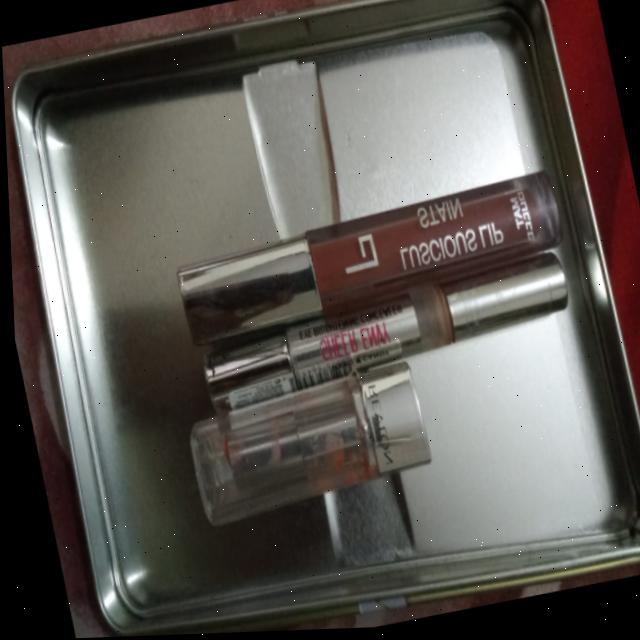lip gloss: (165, 347, 449, 540)
lip liner: (141, 142, 590, 404)
